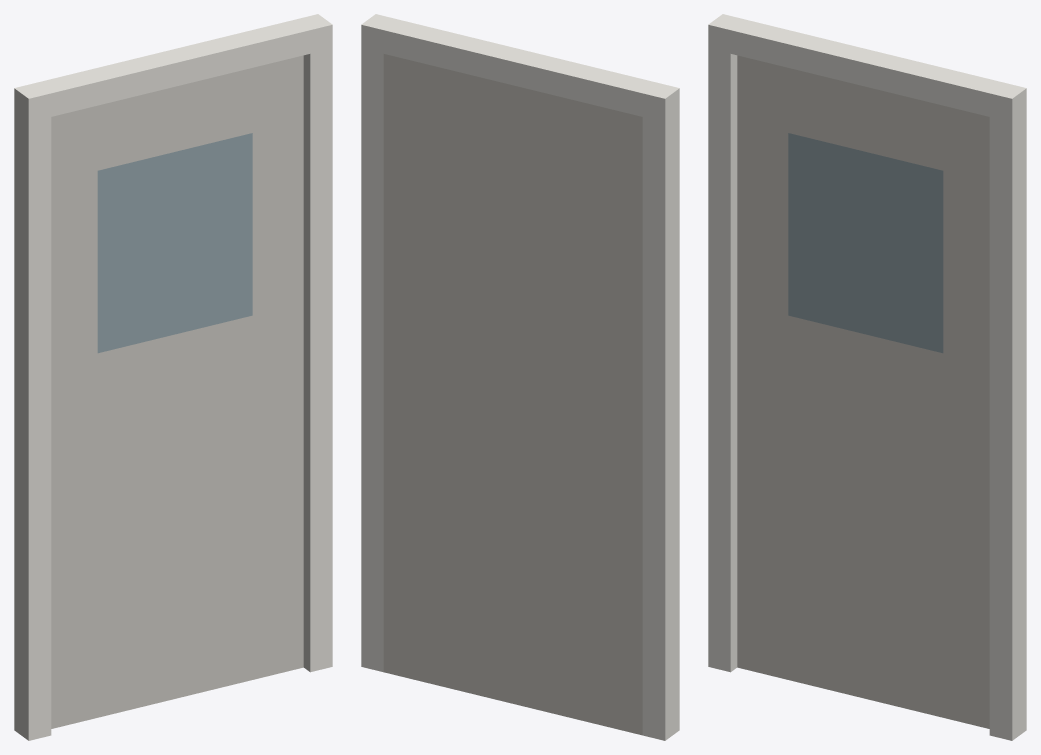
Rendered from door.glb.
3 views of the same model, side by side, from view 1: azimuth 30°, elevation 25°; view 2: azimuth 150°, elevation 25°; view 3: azimuth 330°, elevation 25° (orthographic).
Bounding box in the file's own units: 1.08 × 2.18 × 0.09.
